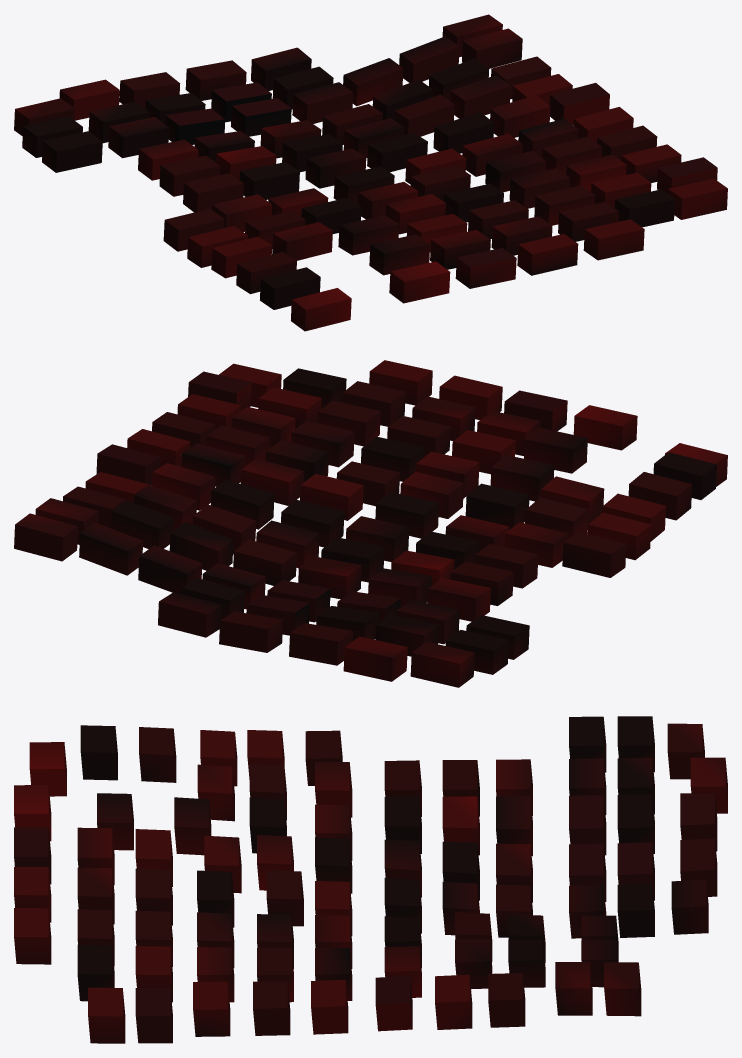
Rendered from CobbleStone_Floor.fbx.
The picture shows the model from 3 angles, top to bottom: view 1: azimuth 30°, elevation 25°; view 2: azimuth 150°, elevation 25°; view 3: azimuth 270°, elevation 25°; orthographic projection. The views are drawn at different scales.
Parts seen in each view (by area): view 1: Model_Floor_Cobblestone; view 2: Model_Floor_Cobblestone; view 3: Model_Floor_Cobblestone.
Part boxes in pixels (bbox=[...]): Model_Floor_Cobblestone: bbox=[14, 14, 727, 331]; Model_Floor_Cobblestone: bbox=[14, 360, 727, 687]; Model_Floor_Cobblestone: bbox=[14, 716, 727, 1043].
Bounding box in the file's own units: 192 × 15.49 × 199.
